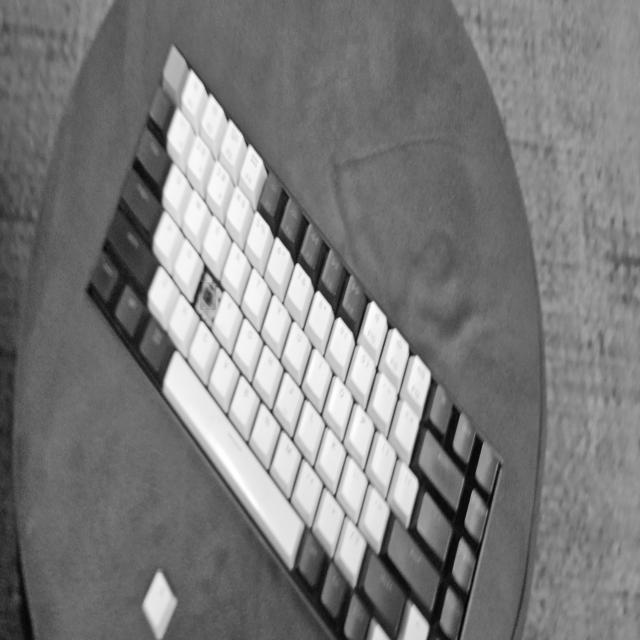C: (200, 282, 216, 310)
